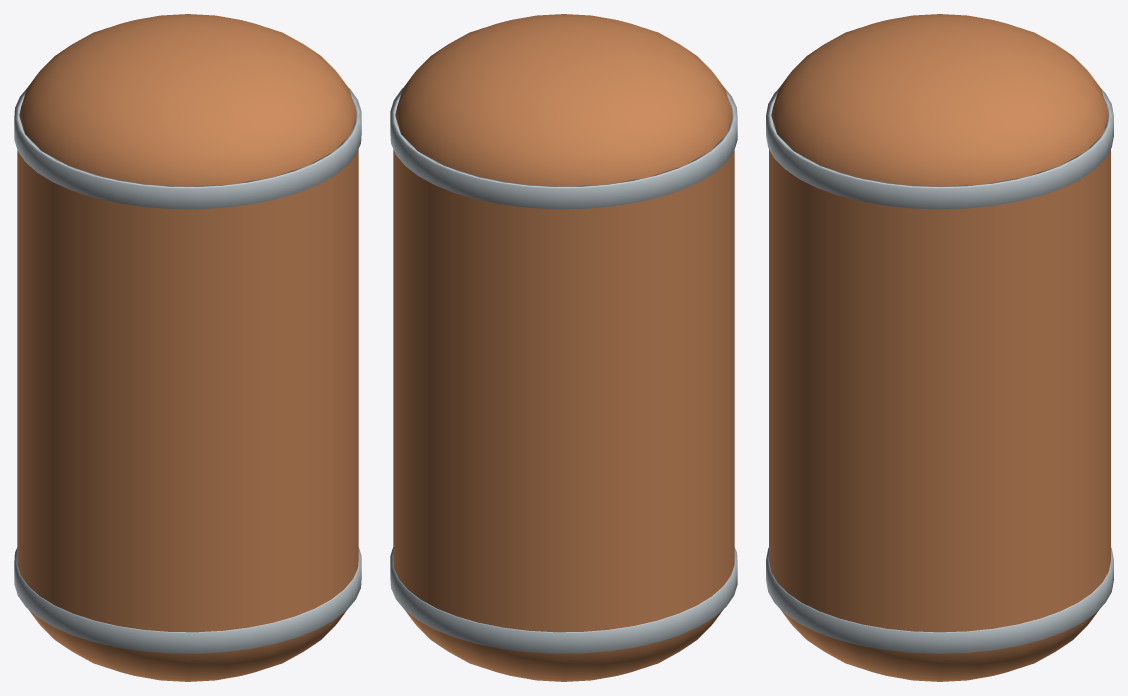
File: orion_esm_tank_b.glb
3 renders of one model, left to right at view 1: azimuth 30°, elevation 25°; view 2: azimuth 150°, elevation 25°; view 3: azimuth 270°, elevation 25°, orthographic.
Visible parts, largest first — view 1: orion_esmcutawaypropellant_02mesh_Cutaway_propellant, orion_esmcutawaypropellant_02mesh_Satin_aluminum; view 2: orion_esmcutawaypropellant_02mesh_Cutaway_propellant, orion_esmcutawaypropellant_02mesh_Satin_aluminum; view 3: orion_esmcutawaypropellant_02mesh_Cutaway_propellant, orion_esmcutawaypropellant_02mesh_Satin_aluminum.
Boxes of the visible parts, bbox=[...] form: orion_esmcutawaypropellant_02mesh_Cutaway_propellant: bbox=[17, 14, 358, 681]; orion_esmcutawaypropellant_02mesh_Satin_aluminum: bbox=[14, 88, 361, 653]; orion_esmcutawaypropellant_02mesh_Cutaway_propellant: bbox=[393, 14, 734, 681]; orion_esmcutawaypropellant_02mesh_Satin_aluminum: bbox=[390, 88, 737, 653]; orion_esmcutawaypropellant_02mesh_Cutaway_propellant: bbox=[769, 14, 1110, 681]; orion_esmcutawaypropellant_02mesh_Satin_aluminum: bbox=[766, 88, 1113, 653].
Size of the model in its own units: 1.24 by 2.42 by 1.24.
